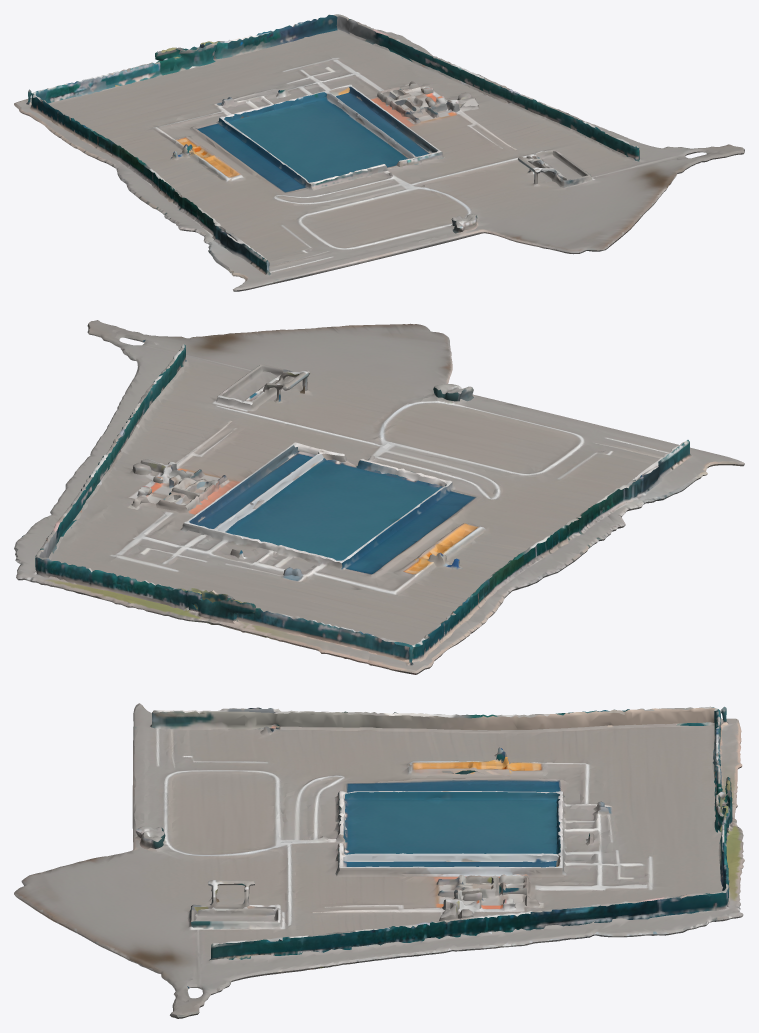
File: Autpdrom.fbx
The picture shows the model from 3 angles, top to bottom: view 1: azimuth 30°, elevation 25°; view 2: azimuth 150°, elevation 25°; view 3: azimuth 270°, elevation 25°; orthographic projection. The views are drawn at different scales.
Parts seen in each view (by area): view 1: textured_mesh; view 2: textured_mesh; view 3: textured_mesh.
Part boxes in pixels (x1,y1,x2,y2): textured_mesh: (14,14,744,291); textured_mesh: (14,320,744,674); textured_mesh: (14,703,744,1018).
Bounding box in the file's own units: 199 × 8.53 × 196.
1 material, 1 textured.
